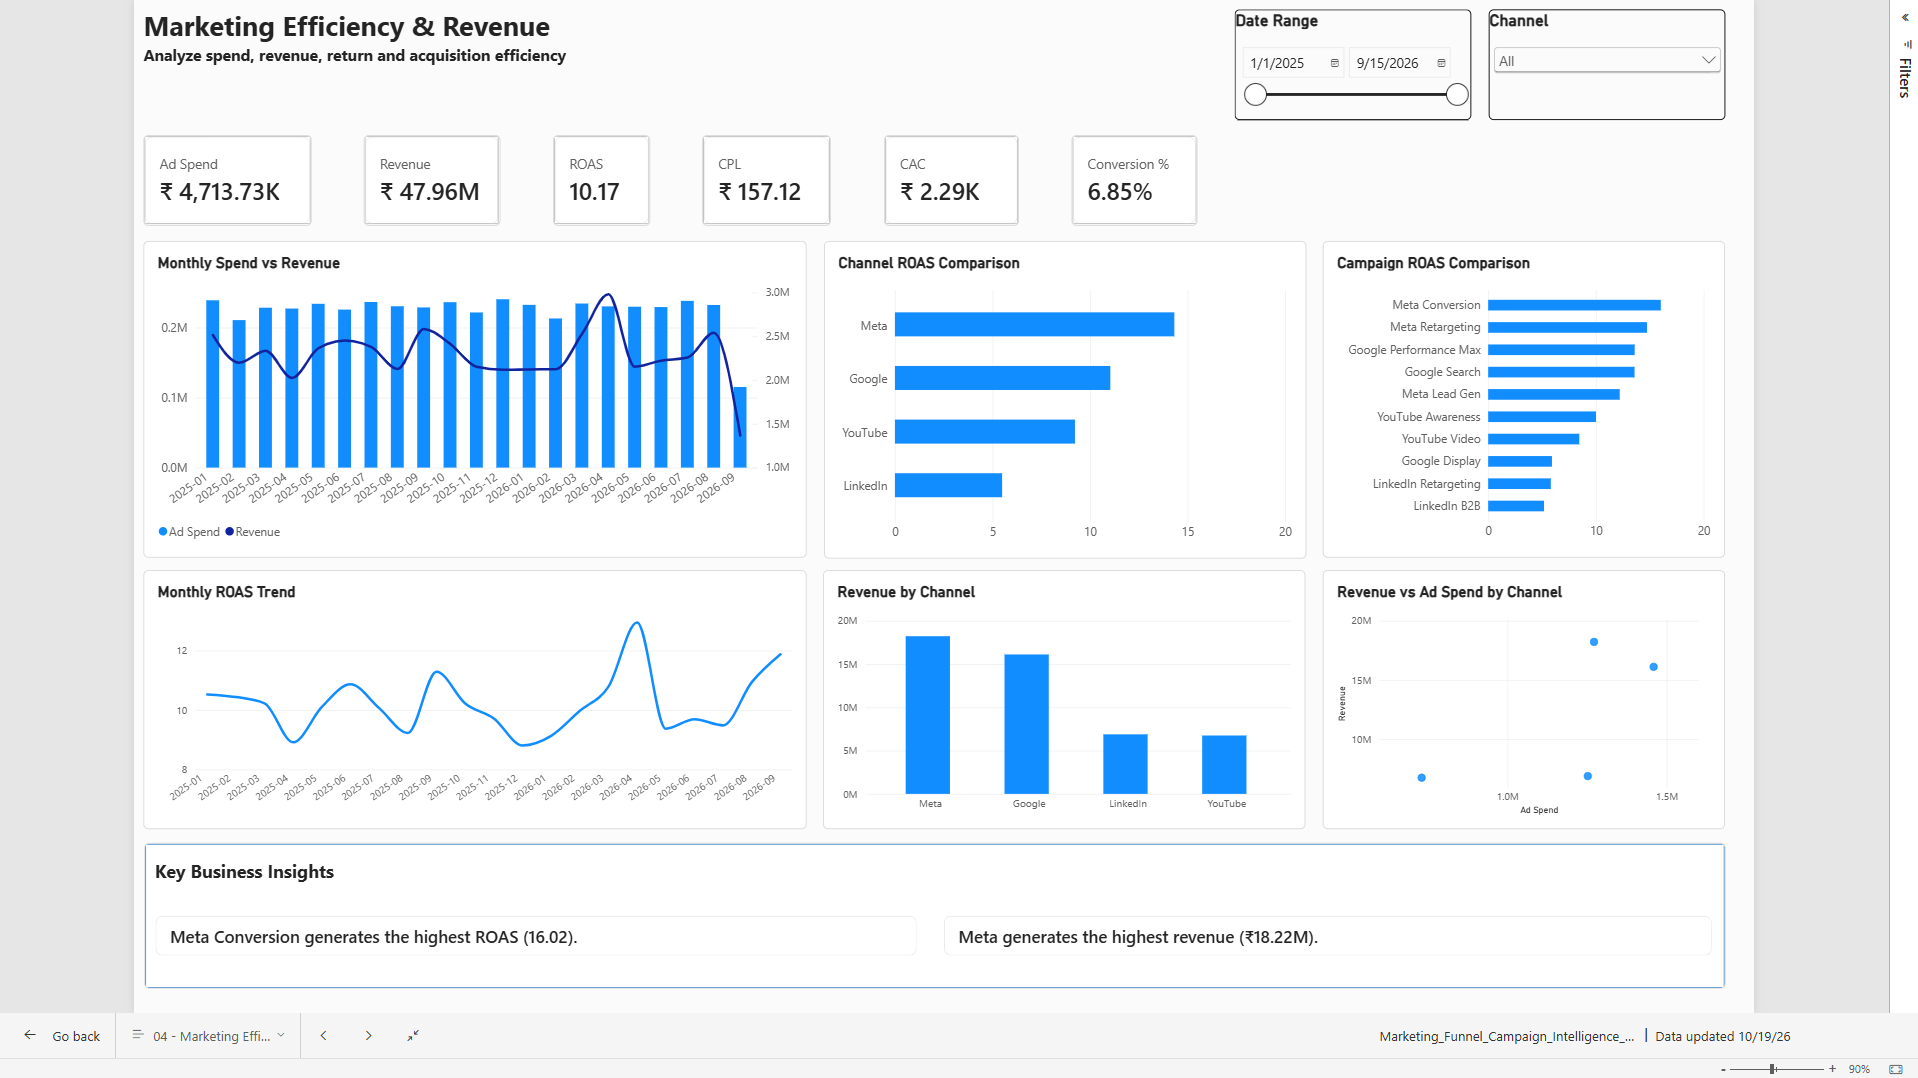

This screenshot's page, from the dashboard's own definition file:
{"tool":"powerbi","page":{"name":"04 - Marketing Efficiency & Revenue","canvas":[1920,1200],"ordinal":3},"visuals":[{"type":"slicer","title":"Channel","fields":{"Values":["DimCampaign.Channel"]},"box":[1606,11.1,281,131],"z":0},{"type":"slicer","title":"Date Range","fields":{"Values":["DimDate.Date"]},"box":[1304,11.1,281,131],"z":1000},{"type":"textbox","box":[11.1,9.3,1285.2,133.3],"z":2000},{"type":"cardVisual","fields":{"Data":["CRMActivity.Ad Spend"]},"box":[10.8,160,199.6,107.9],"z":3000},{"type":"cardVisual","fields":{"Data":["CRMActivity.Revenue"]},"box":[272.5,160,161.8,107.9],"z":4000},{"type":"cardVisual","fields":{"Data":["CRMActivity.ROAS"]},"box":[496.5,160,115.1,107.9],"z":5000},{"type":"cardVisual","fields":{"Data":["CRMActivity.CPL"]},"box":[673.8,160,152.8,107.9],"z":6000},{"type":"cardVisual","fields":{"Data":["CRMActivity.CAC"]},"box":[888.8,160,160,107.9],"z":7000},{"type":"cardVisual","fields":{"Data":["FactLeads.Cohort Conversion %"]},"box":[1111,160,149.2,107.9],"z":8000},{"type":"lineClusteredColumnComboChart","title":"Monthly Spend vs Revenue","fields":{"Category":["DimDate.YearMonth"],"Y":["CRMActivity.Ad Spend"],"Y2":["CRMActivity.Revenue"]},"box":[10.8,285.8,785.6,375.7],"z":9000},{"type":"lineChart","title":"Monthly ROAS Trend","fields":{"Category":["DimDate.YearMonth"],"Y":["CRMActivity.ROAS"]},"box":[10.8,676,785.6,307.4],"z":10000},{"type":"clusteredBarChart","title":"Channel ROAS Comparison","fields":{"Category":["DimCampaign.Channel"],"Y":["CRMActivity.ROAS"]},"box":[818,286,571.3,376.6],"z":11000},{"type":"clusteredBarChart","title":"Campaign ROAS Comparison","fields":{"Category":["DimCampaign.CampaignName"],"Y":["CRMActivity.ROAS"]},"box":[1409.4,285.8,476.4,375.7],"z":12000},{"type":"clusteredColumnChart","title":"Revenue by Channel","fields":{"Category":["DimCampaign.Channel"],"Y":["CRMActivity.Revenue"]},"box":[817.1,676,571.7,307.4],"z":13000},{"type":"scatterChart","title":"Revenue vs Ad Spend by Channel","fields":{"Category":["DimCampaign.Channel"],"X":["CRMActivity.Ad Spend"],"Y":["CRMActivity.Revenue"]},"box":[1409.4,676,476.4,307.4],"z":14000},{"type":"shape","box":[12,999.4,1873.9,173],"z":15000},{"type":"textbox","box":[24,1016.2,431.8,36.4],"z":16000},{"type":"cardVisual","fields":{"Data":["FactLeads.KBI Top Campaign by ROAS"]},"box":[25,1085.4,902.1,47.9],"z":17000},{"type":"cardVisual","fields":{"Data":["FactLeads.KBI Top Revenue Channel"]},"box":[960.4,1085.4,910.4,47.9],"z":18000}]}

Visuals, with their boxes on the page's 1920x1200 design canvas (x1, y1, x2, y2). These are canvas units, not pixel positions in the 1918x1078 screenshot, which may show the page scaled, cropped or inside an application window:
"Channel" slicer: 1606 11 1887 142
"Date Range" slicer: 1304 11 1585 142
textbox: 11 9 1296 143
cardVisual - CRMActivity.Ad Spend: 11 160 210 268
cardVisual - CRMActivity.Revenue: 272 160 434 268
cardVisual - CRMActivity.ROAS: 496 160 612 268
cardVisual - CRMActivity.CPL: 674 160 827 268
cardVisual - CRMActivity.CAC: 889 160 1049 268
cardVisual - FactLeads.Cohort Conversion %: 1111 160 1260 268
"Monthly Spend vs Revenue" lineClusteredColumnComboChart: 11 286 796 662
"Monthly ROAS Trend" lineChart: 11 676 796 983
"Channel ROAS Comparison" clusteredBarChart: 818 286 1389 663
"Campaign ROAS Comparison" clusteredBarChart: 1409 286 1886 662
"Revenue by Channel" clusteredColumnChart: 817 676 1389 983
"Revenue vs Ad Spend by Channel" scatterChart: 1409 676 1886 983
shape: 12 999 1886 1172
textbox: 24 1016 456 1053
cardVisual - FactLeads.KBI Top Campaign by ROAS: 25 1085 927 1133
cardVisual - FactLeads.KBI Top Revenue Channel: 960 1085 1871 1133
